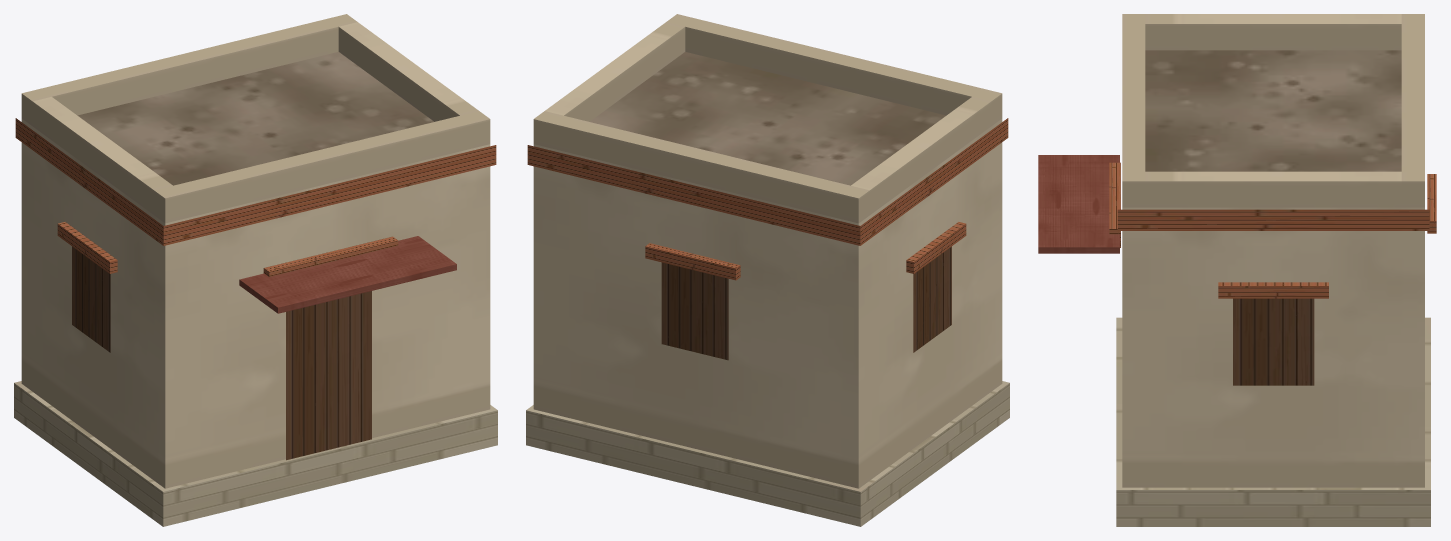
Rendered from ae_sand_stone_small_booth_lod1.glb.
3 renders of one model, left to right at view 1: azimuth 30°, elevation 25°; view 2: azimuth 150°, elevation 25°; view 3: azimuth 270°, elevation 25°, orthographic. The views are drawn at different scales.
Parts seen in each view (by area): view 1: ae_sand_stone_small_booth_lod1; view 2: ae_sand_stone_small_booth_lod1; view 3: ae_sand_stone_small_booth_lod1.
Boxes of the visible parts, box(x1,y1,x2,y2) form: ae_sand_stone_small_booth_lod1: box(14, 14, 497, 526); ae_sand_stone_small_booth_lod1: box(526, 14, 1009, 526); ae_sand_stone_small_booth_lod1: box(1038, 14, 1436, 526).
Bounding box in the file's own units: 3.6 × 3.25 × 3.42.
1 material, 1 textured.
